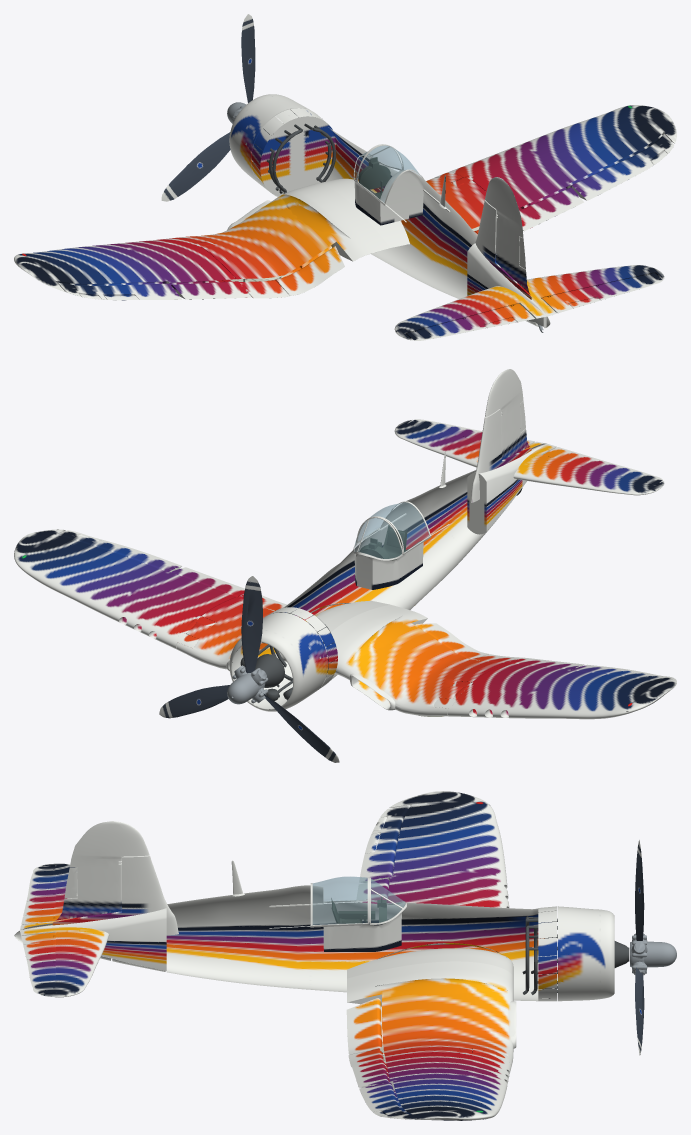
The model's file is aircraft_spectrum.glb.
The picture shows the model from 3 angles, top to bottom: view 1: azimuth 30°, elevation 25°; view 2: azimuth 150°, elevation 25°; view 3: azimuth 270°, elevation 25°; orthographic projection. The views are drawn at different scales.
Visible parts, largest first — view 1: fuselage_core, wing_center_fixed, wing_right_fixed, wing_left_fixed, stabilizer_fixed, elevator, cowl, propeller_rotor, rudder, aileron_right, canopy_glass, aileron_left (+8 smaller); view 2: wing_center_fixed, fuselage_core, wing_right_fixed, wing_left_fixed, cowl, stabilizer_fixed, propeller_rotor, rudder, elevator, fin_fixed, canopy_glass, windshield_glass (+6 smaller); view 3: fuselage_core, wing_center_fixed, wing_left_fixed, wing_right_fixed, cowl, rudder, stabilizer_fixed, elevator, fin_fixed, propeller_rotor, canopy_glass, aileron_left (+8 smaller).
Part boxes in pixels (x1,y1,x2,y2): fuselage_core: (259,116,550,327); wing_center_fixed: (179,170,486,281); wing_right_fixed: (452,105,676,210); wing_left_fixed: (14,237,235,292); stabilizer_fixed: (394,265,664,340); elevator: (406,273,662,340); cowl: (229,94,332,195); propeller_rotor: (161,14,255,201); rudder: (485,177,530,294); aileron_right: (570,134,674,200); canopy_glass: (358,145,420,202); aileron_left: (57,282,181,300); wing_center_fixed: (175,597,506,716); fuselage_core: (259,443,546,687); wing_right_fixed: (14,529,235,649); wing_left_fixed: (447,663,676,719); cowl: (229,607,337,711); stabilizer_fixed: (394,419,664,495); propeller_rotor: (159,576,339,762); rudder: (485,369,529,459); elevator: (407,419,662,485); fin_fixed: (470,409,531,502); canopy_glass: (358,502,429,552); windshield_glass: (354,518,401,558); fuselage_core: (14,860,541,1001); wing_center_fixed: (347,943,516,1069); wing_left_fixed: (387,791,509,907); wing_right_fixed: (385,1053,511,1120); cowl: (538,906,614,1001); rudder: (55,821,149,920); stabilizer_fixed: (20,863,109,997); elevator: (21,866,55,993); fin_fixed: (52,855,178,935); propeller_rotor: (630,840,676,1055); canopy_glass: (312,876,367,924); aileron_left: (359,805,410,882).
Size of the model in its own units: 2.78 by 0.7709 by 2.38.
13 materials, 7 textured.
